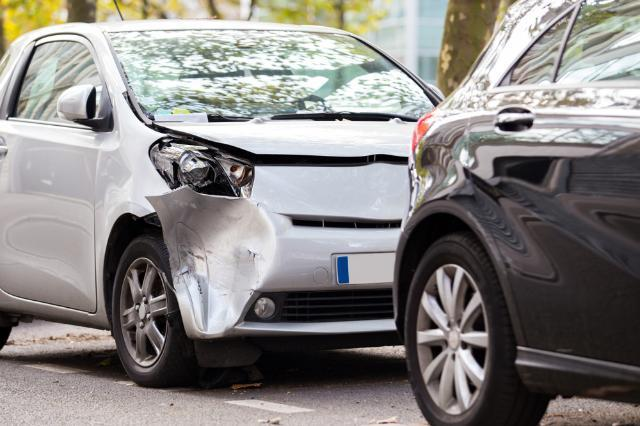dent: (161, 191, 276, 332)
lamp broken: (149, 139, 253, 202)
